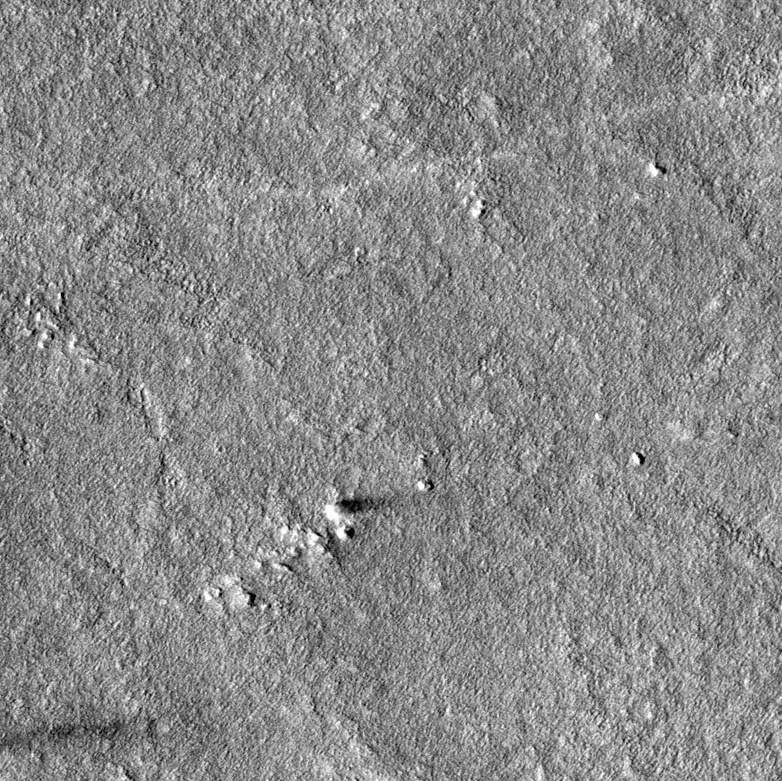dust_devil: (321, 494, 393, 523)
